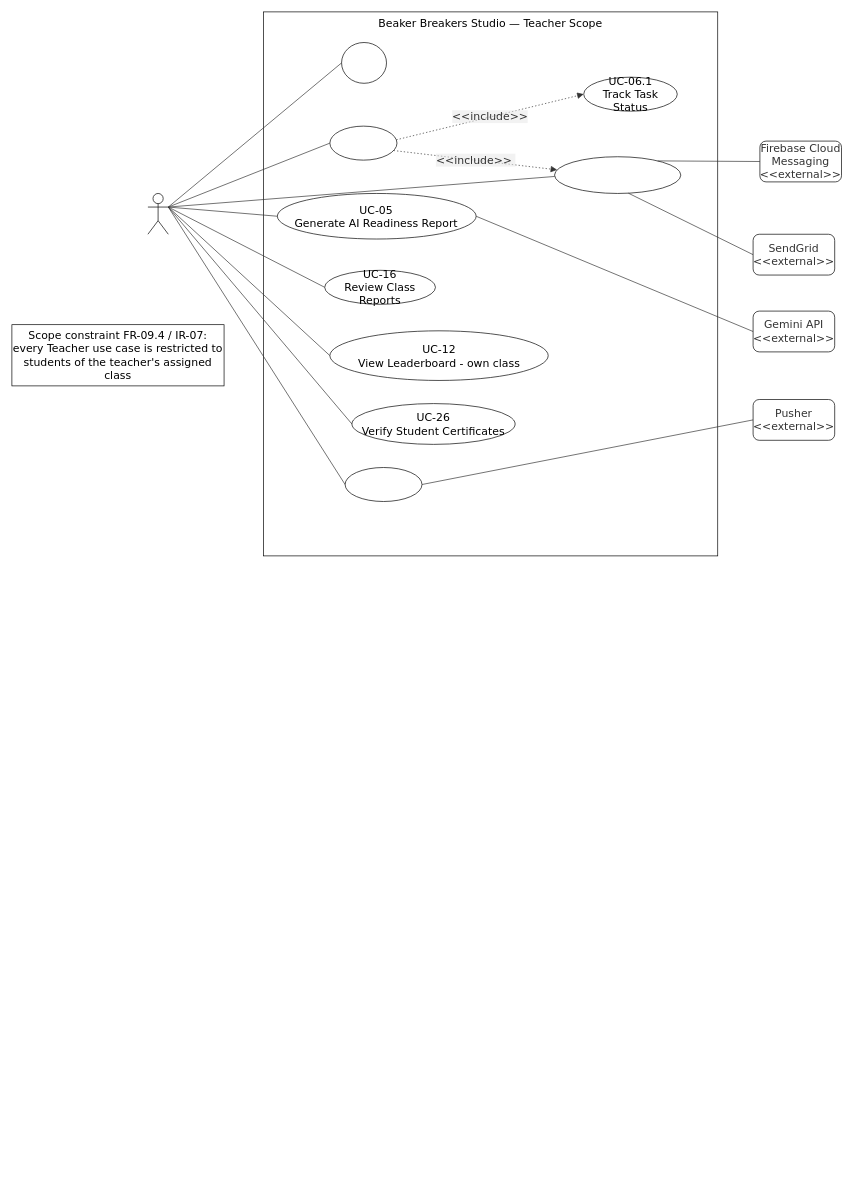
This 853x1192 diagram has some shape labels left out. Each missing label, with the centre of its shape:
"Teacher" belongs at [157,213].
"UC-01 Log In" belongs at [364,62].
"UC-06 Assign Task" belongs at [363,142].
"UC-14 Monitor Class" belongs at [383,484].
"UC-15 Broadcast Notification" belongs at [617,174].
